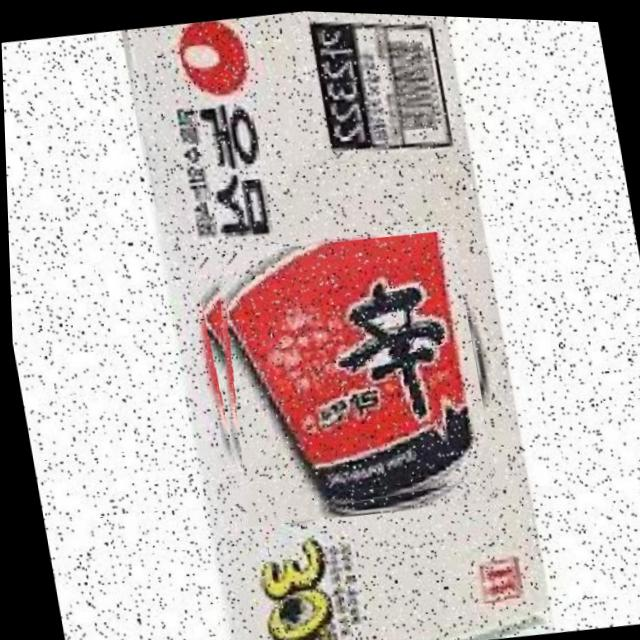Miscellaneous: (184, 218, 496, 530)
